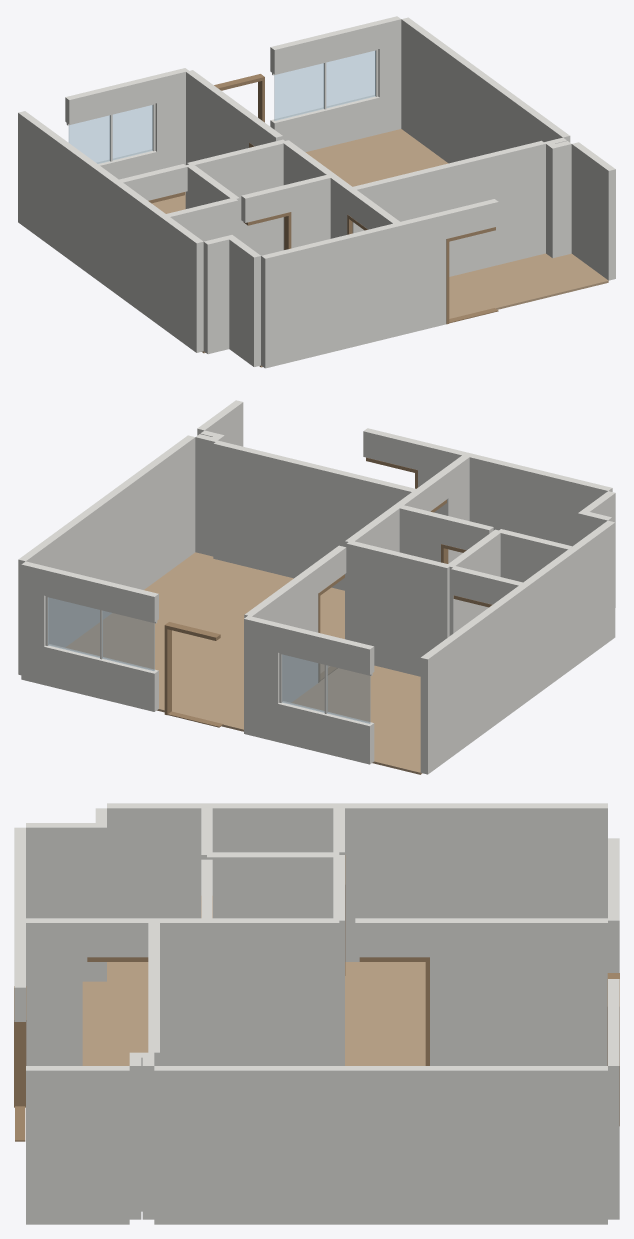
Rendered from colorful_13500.glb.
The picture shows the model from 3 angles, top to bottom: view 1: azimuth 30°, elevation 25°; view 2: azimuth 150°, elevation 25°; view 3: azimuth 270°, elevation 25°; orthographic projection. The views are drawn at different scales.
Parts seen in each view (by area): view 1: Wall_21_solid, Wall_6_solid, Wall_4_solid, Wall_12_solid, Floor_1_hall, Wall_23_solid, Wall_8_solid, Wall_7_solid, Wall_18_solid, Window_1, Wall_14_solid, Floor_0_kitchen (+21 smaller); view 2: Floor_0_kitchen, Wall_6_solid, Wall_4_solid, Wall_12_solid, Wall_14_solid, Wall_21_solid, Floor_2_bedroom, Wall_23_solid, Window_1, Wall_3_sill, Wall_18_solid, Window_7 (+23 smaller); view 3: Wall_4_solid, Wall_12_solid, Wall_2_solid, Wall_1_solid, Wall_7_solid, Wall_18_solid, Wall_9_solid, Floor_2_bedroom, Wall_16_solid, Wall_22_solid, Wall_0_solid, Floor_3_bathroom (+16 smaller).
Boxes of the visible parts, left/top/right/bottom form: Wall_21_solid: left=261, top=222, right=400, bottom=368; Wall_6_solid: left=351, top=140, right=545, bottom=276; Wall_4_solid: left=401, top=17, right=570, bottom=163; Wall_12_solid: left=18, top=111, right=120, bottom=292; Floor_1_hall: left=449, top=253, right=608, bottom=318; Wall_23_solid: left=114, top=181, right=167, bottom=326; Wall_8_solid: left=397, top=211, right=446, bottom=335; Wall_7_solid: left=571, top=142, right=615, bottom=280; Wall_18_solid: left=161, top=215, right=203, bottom=352; Window_1: left=274, top=50, right=375, bottom=120; Wall_14_solid: left=187, top=139, right=286, bottom=255; Floor_0_kitchen: left=306, top=129, right=448, bottom=186; Floor_0_kitchen: left=65, top=552, right=344, bottom=731; Wall_6_solid: left=213, top=440, right=418, bottom=590; Wall_4_solid: left=18, top=435, right=195, bottom=675; Wall_12_solid: left=420, top=584, right=528, bottom=774; Wall_14_solid: left=346, top=540, right=451, bottom=676; Wall_21_solid: left=466, top=453, right=612, bottom=546; Floor_2_bedroom: left=291, top=665, right=421, bottom=774; Wall_23_solid: left=521, top=548, right=577, bottom=700; Window_1: left=48, top=597, right=154, bottom=670; Wall_3_sill: left=44, top=644, right=158, bottom=711; Wall_18_solid: left=571, top=520, right=615, bottom=664; Window_7: left=282, top=654, right=370, bottom=723; Wall_4_solid: left=154, top=1066, right=607, bottom=1224; Wall_12_solid: left=339, top=803, right=607, bottom=961; Wall_2_solid: left=430, top=918, right=607, bottom=1065; Wall_1_solid: left=207, top=918, right=339, bottom=1065; Wall_7_solid: left=26, top=1066, right=129, bottom=1224; Wall_18_solid: left=107, top=803, right=206, bottom=918; Wall_9_solid: left=26, top=918, right=82, bottom=1065; Floor_2_bedroom: left=345, top=962, right=425, bottom=1065; Wall_16_solid: left=26, top=823, right=106, bottom=981; Wall_22_solid: left=207, top=852, right=339, bottom=918; Wall_0_solid: left=154, top=918, right=206, bottom=1065; Floor_3_bathroom: left=82, top=962, right=148, bottom=1065.
Size of the model in its own units: 10.06 by 2.75 by 9.63.
